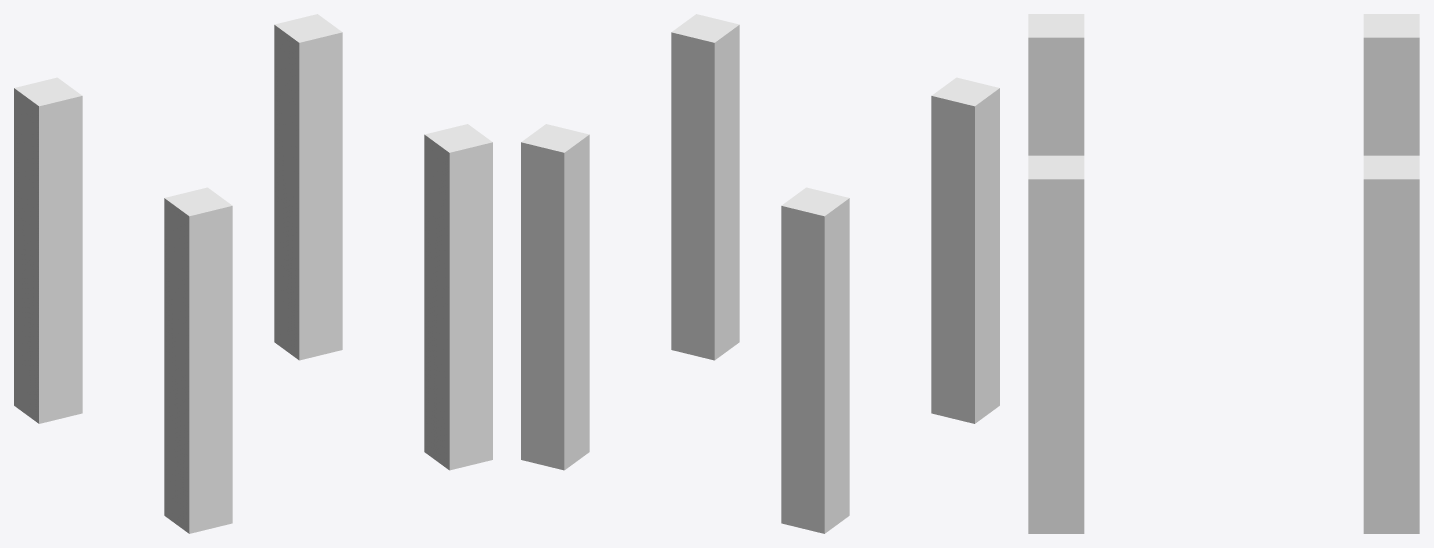
Rendered from Nodo.obj.
3 renders of one model, left to right at view 1: azimuth 30°, elevation 25°; view 2: azimuth 150°, elevation 25°; view 3: azimuth 270°, elevation 25°, orthographic. The views are drawn at different scales.
Parts seen in each view (by area): view 1: Nodo_Cube.001; view 2: Nodo_Cube.001; view 3: Nodo_Cube.001.
Part boxes in pixels (x1,y1,x2,y2): Nodo_Cube.001: (14, 14, 492, 533); Nodo_Cube.001: (521, 14, 999, 533); Nodo_Cube.001: (1028, 14, 1419, 533).
Size of the model in its own units: 2 by 2 by 2.
1 material, 1 textured.
